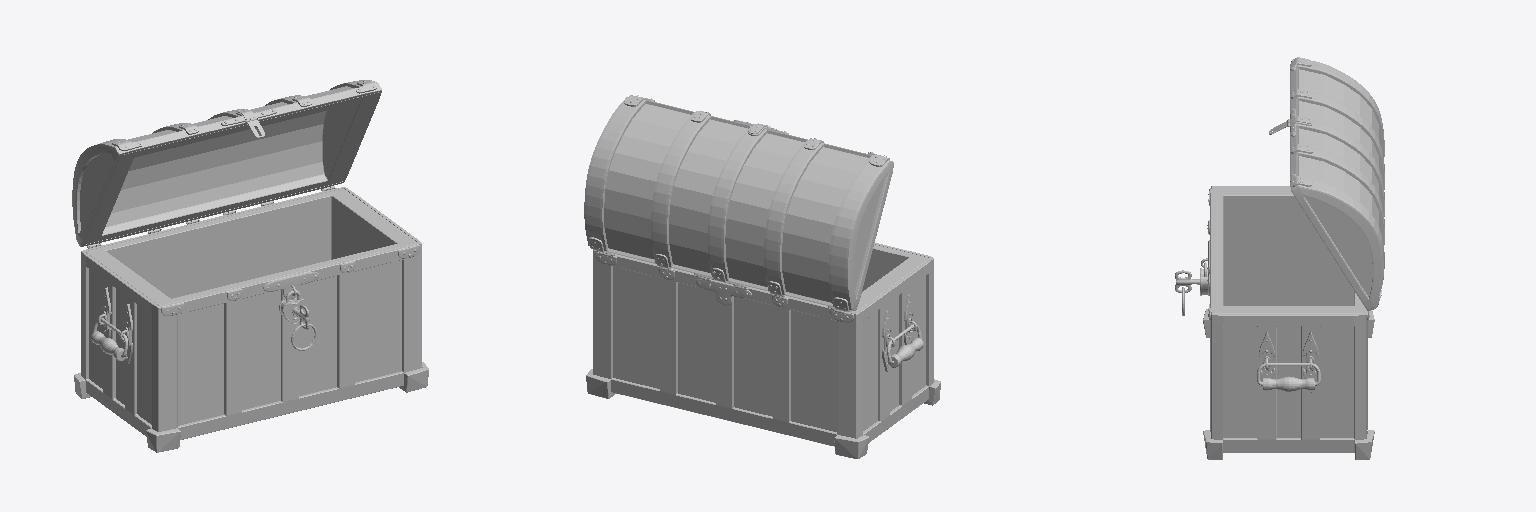
Rendered from chest_obj.obj.
The picture shows the model from 3 angles: view 1: azimuth 30°, elevation 25°; view 2: azimuth 150°, elevation 25°; view 3: azimuth 270°, elevation 25°; orthographic projection.
Visible parts, largest first — view 1: chest_02, chest_01; view 2: chest_02, chest_01; view 3: chest_02, chest_01.
Part boxes in pixels (left/top/right/bottom): chest_02: left=80, top=86, right=417, bottom=425; chest_01: left=72, top=80, right=428, bottom=452; chest_02: left=604, top=104, right=929, bottom=431; chest_01: left=584, top=95, right=940, bottom=458; chest_02: left=1214, top=69, right=1381, bottom=437; chest_01: left=1175, top=57, right=1384, bottom=459.
Bounding box in the file's own units: 138 × 122 × 84.13.